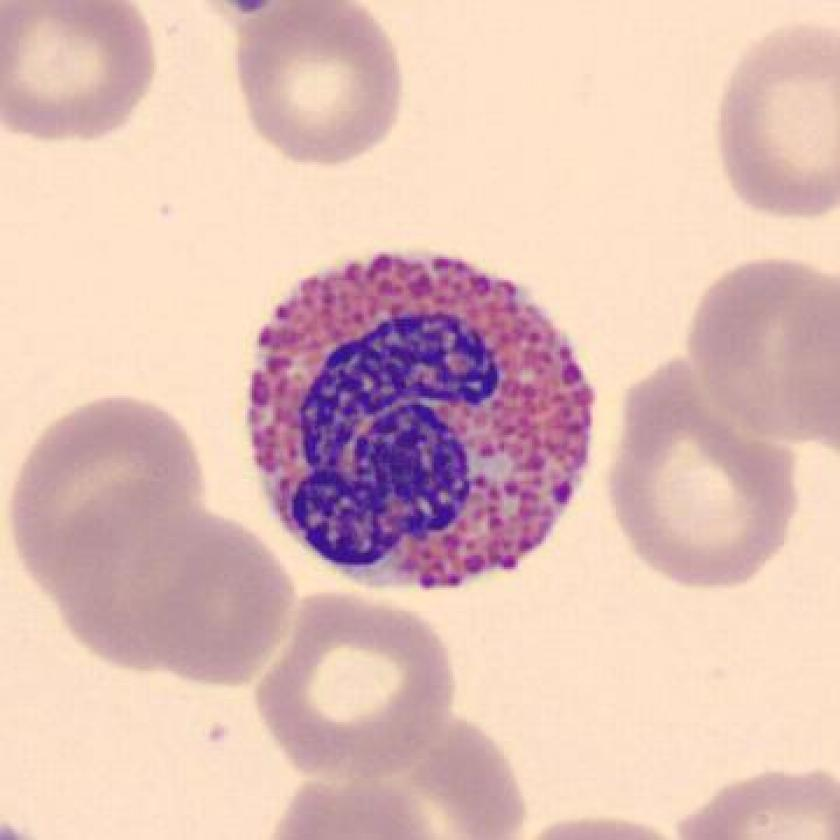eosinophil: (230, 235, 612, 617)
